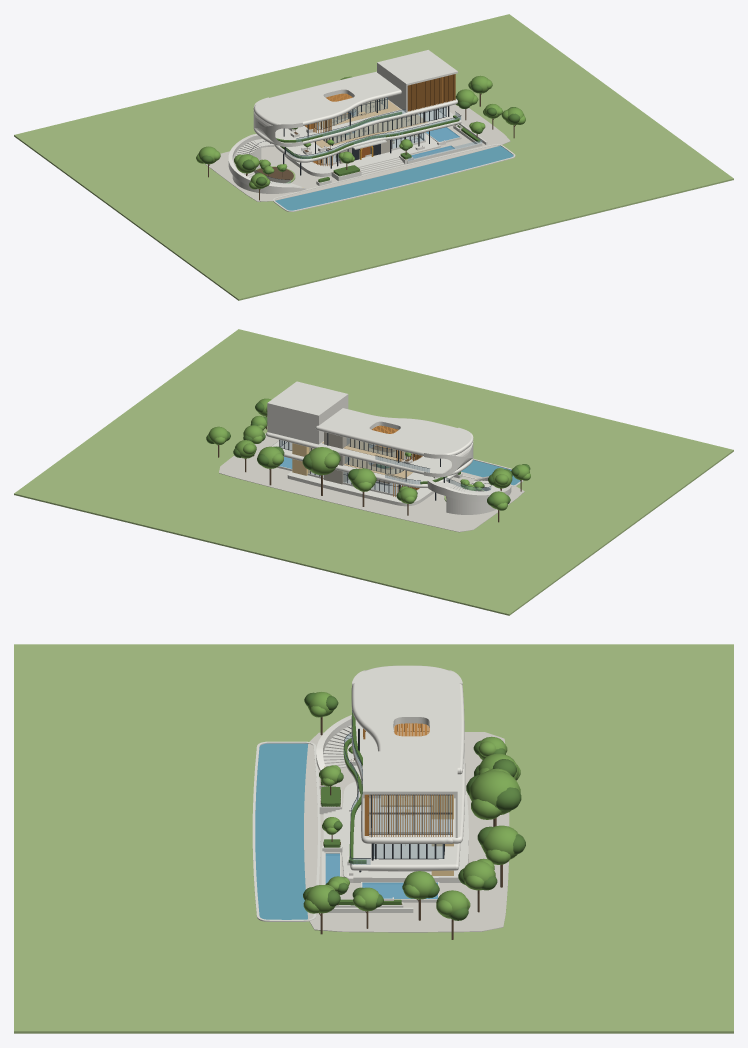
Rendered from arqo-pavilion-01.glb.
3 views of the same model, one above another, from view 1: azimuth 30°, elevation 25°; view 2: azimuth 150°, elevation 25°; view 3: azimuth 270°, elevation 25° (orthographic). The views are drawn at different scales.
Parts seen in each view (by area): view 1: Site_ground, Roof_Canopy_stone, Site_paving, Pool, Curtain_Wall_glass, Tree_Canopy_leaf, Louvre_Frame_stone, Interior_interior, Louvres_timber, Floor_Plate_1_stone, Pools_stone, Ramp_stone (+6 smaller); view 2: Site_ground, Site_paving, Roof_Canopy_stone, Tree_Canopy_leaf, Louvre_Frame_stone, Curtain_Wall_glass, Ramp_stone, Floor_Plate_2_stone, Podium_stone, Tree_Canopy_leafDark, Interior_interior, Floor_Plate_1_stone (+3 smaller); view 3: Site_ground, Site_paving, Pool, Roof_Canopy_stone, Tree_Canopy_leaf, Floor_Plate_2_stone, Louvre_Frame_stone, Curtain_Wall_glass, Floor_Plate_1_stone, Tree_Canopy_leafDark, Pools_stone, Louvres_timber (+6 smaller).
Boxes of the visible parts, x1,y1,x2,y2 form: Site_ground: [14, 14, 733, 300]; Roof_Canopy_stone: [253, 71, 401, 146]; Site_paving: [205, 104, 510, 201]; Pool: [275, 127, 513, 210]; Curtain_Wall_glass: [253, 97, 481, 183]; Tree_Canopy_leaf: [196, 75, 525, 189]; Louvre_Frame_stone: [377, 50, 457, 112]; Interior_interior: [314, 98, 427, 157]; Louvres_timber: [304, 74, 455, 165]; Floor_Plate_1_stone: [274, 108, 461, 162]; Pools_stone: [273, 123, 515, 211]; Ramp_stone: [228, 134, 306, 193]; Site_ground: [14, 329, 733, 615]; Site_paving: [219, 433, 524, 532]; Roof_Canopy_stone: [315, 408, 473, 477]; Tree_Canopy_leaf: [208, 398, 530, 510]; Louvre_Frame_stone: [267, 381, 348, 444]; Curtain_Wall_glass: [280, 438, 490, 494]; Ramp_stone: [427, 476, 511, 514]; Floor_Plate_2_stone: [266, 432, 473, 475]; Podium_stone: [287, 471, 434, 506]; Tree_Canopy_leafDark: [206, 402, 530, 505]; Interior_interior: [322, 439, 412, 479]; Floor_Plate_1_stone: [271, 440, 459, 487]; Site_ground: [14, 644, 733, 1033]; Site_paving: [304, 732, 509, 932]; Pool: [255, 743, 437, 919]; Roof_Canopy_stone: [351, 665, 464, 774]; Tree_Canopy_leaf: [303, 692, 520, 918]; Floor_Plate_2_stone: [351, 719, 465, 843]; Louvre_Frame_stone: [363, 751, 457, 837]; Curtain_Wall_glass: [344, 712, 451, 864]; Floor_Plate_1_stone: [344, 743, 460, 870]; Tree_Canopy_leafDark: [303, 692, 525, 920]; Pools_stone: [252, 741, 439, 921]; Louvres_timber: [363, 724, 452, 836].
Bounding box in the file's own units: 140 × 18.8 × 110.
